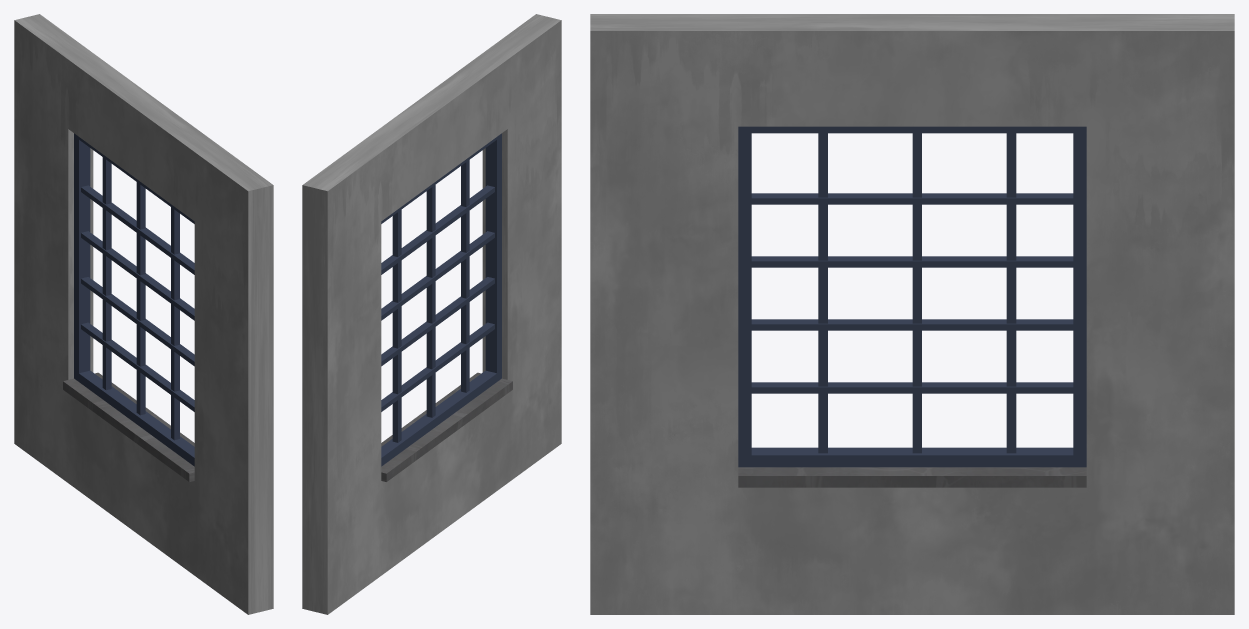
Rendered from Window_Wall_A.fbx.
3 views of the same model, side by side, from view 1: azimuth 30°, elevation 25°; view 2: azimuth 150°, elevation 25°; view 3: azimuth 270°, elevation 25° (orthographic). The views are drawn at different scales.
Visible parts, largest first — view 1: Cube.102; view 2: Cube.102; view 3: Cube.102.
Boxes of the visible parts, x1,y1,x2,y2 form: Cube.102: (14,14,273,614); Cube.102: (302,14,561,614); Cube.102: (590,14,1234,614).
Bounding box in the file's own units: 34.98 × 400 × 400.
